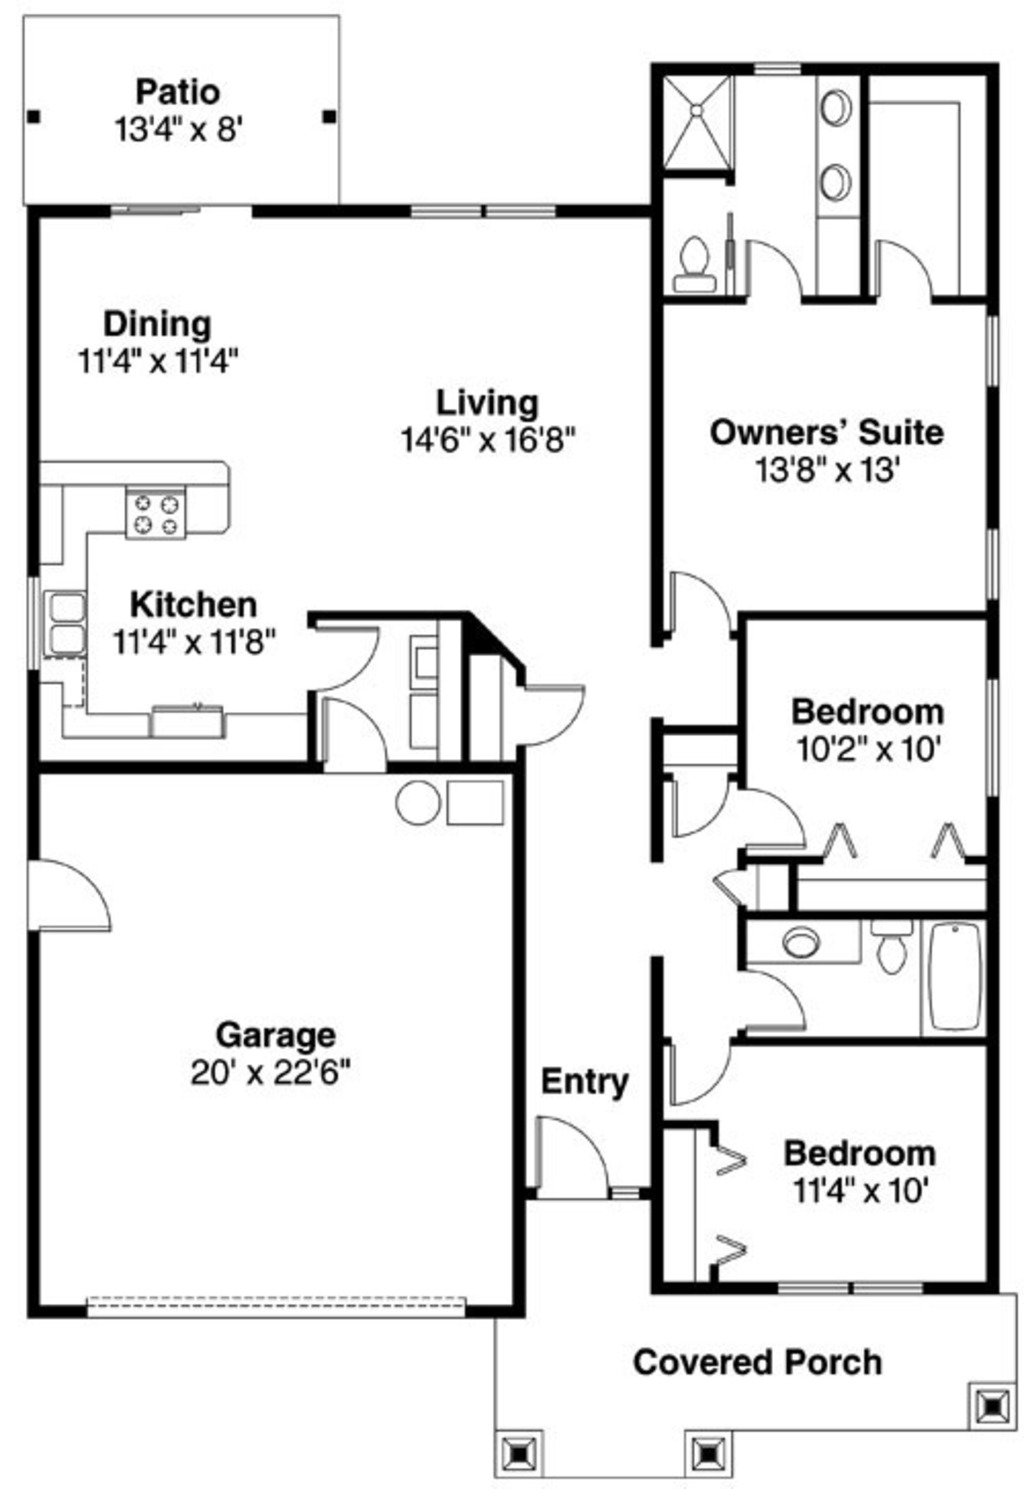door: (522, 1110, 647, 1212), (26, 851, 144, 947), (628, 549, 742, 647), (312, 685, 397, 783), (506, 669, 597, 751), (653, 758, 745, 835), (869, 229, 950, 315), (722, 772, 810, 849), (296, 612, 376, 697), (651, 1044, 742, 1110), (735, 233, 810, 312), (745, 958, 810, 1028)
large_sink: (656, 215, 726, 305), (847, 901, 917, 978)
small_sink: (792, 81, 869, 226), (742, 912, 860, 965)
tub: (933, 912, 992, 1035)
twin_sink: (24, 569, 110, 675)
window: (394, 186, 569, 235), (760, 1274, 950, 1299)
